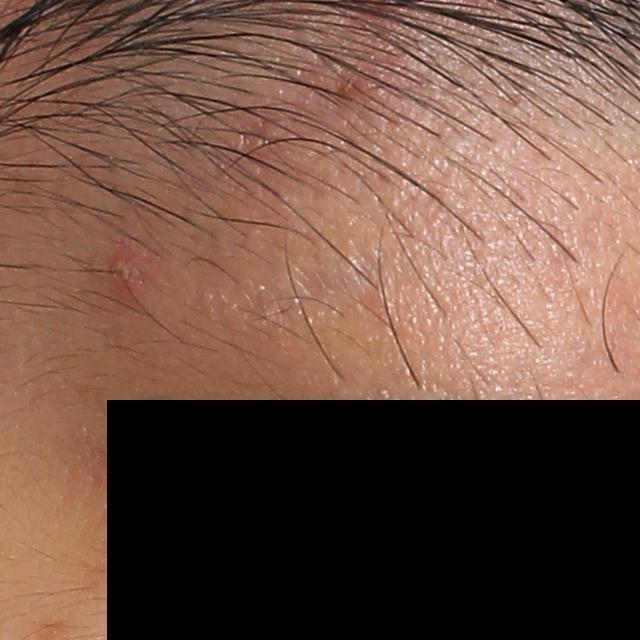papule: (100, 247, 150, 290)
